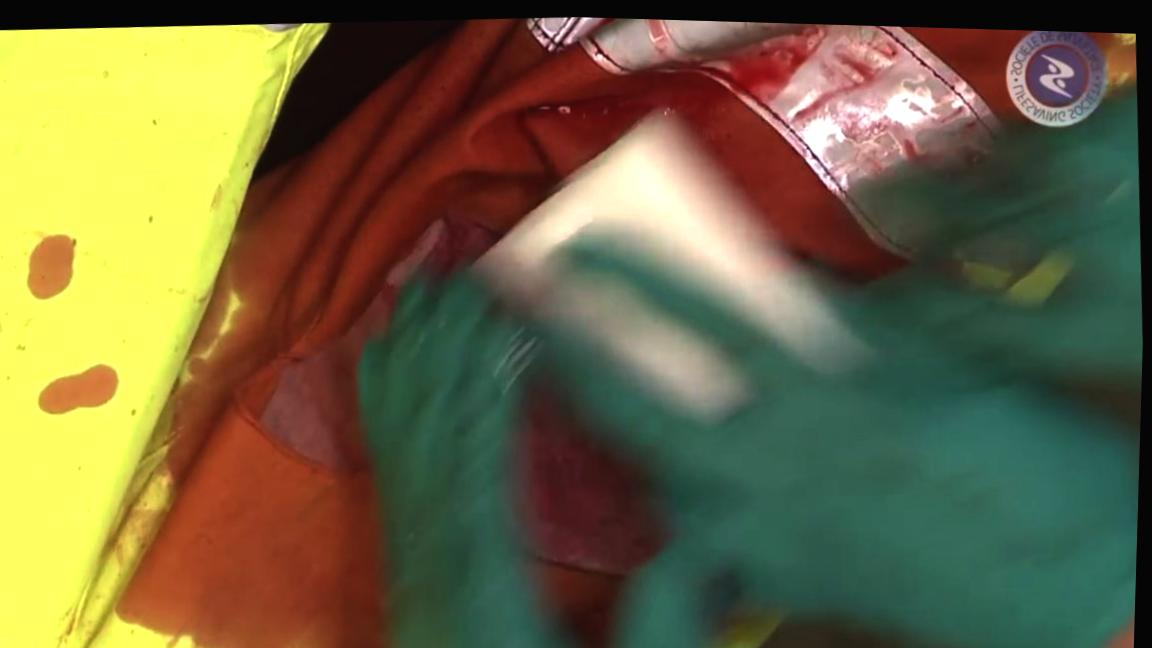Fire: (62, 13, 1137, 648), (27, 164, 159, 435), (526, 404, 661, 643)
